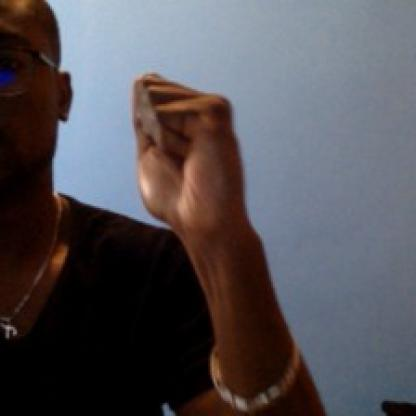BACKWARD: (116, 50, 291, 274)
